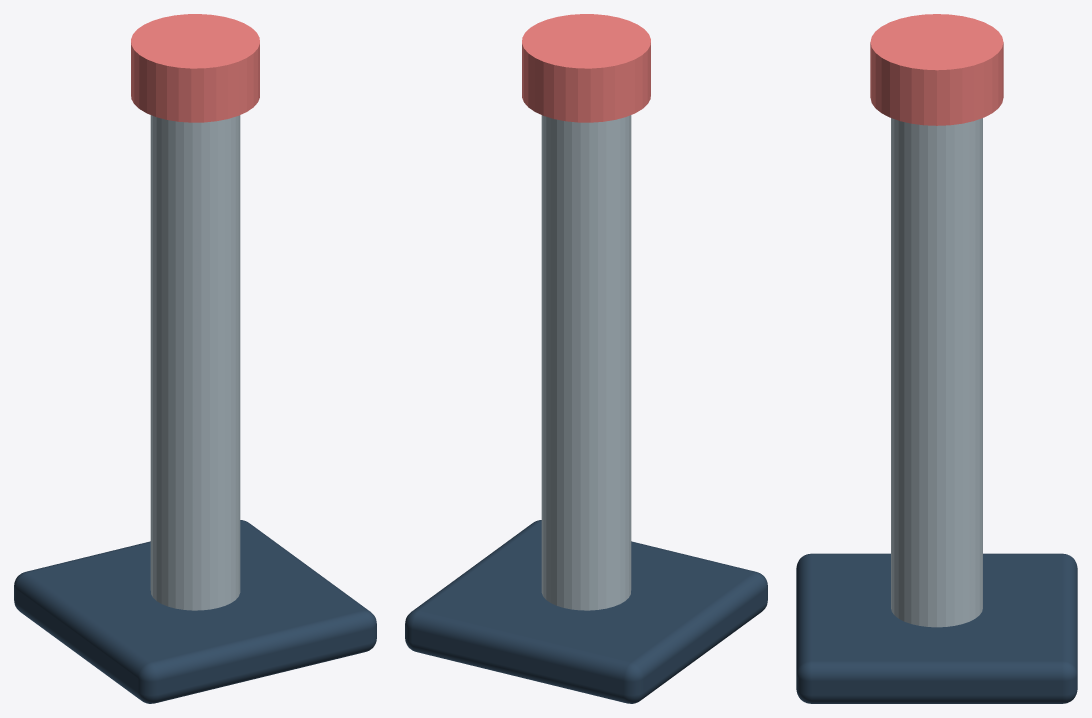
Rendered from party-obstacle-course-party-obstacle-course-barrier-en-0927acb5__28949.glb.
3 views of the same model, side by side, from view 1: azimuth 30°, elevation 25°; view 2: azimuth 150°, elevation 25°; view 3: azimuth 270°, elevation 25° (orthographic). The views are drawn at different scales.
Parts seen in each view (by area): view 1: party-obstacle-course-barrier-end; view 2: party-obstacle-course-barrier-end; view 3: party-obstacle-course-barrier-end.
Part boxes in pixels (x1,y1,x2,y2): party-obstacle-course-barrier-end: (14, 14, 376, 703); party-obstacle-course-barrier-end: (405, 14, 767, 703); party-obstacle-course-barrier-end: (796, 14, 1077, 703).
Size of the model in its own units: 0.55 by 1.31 by 0.55.
